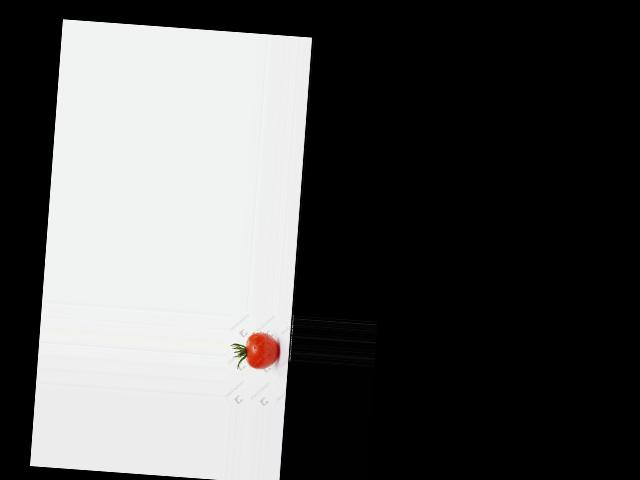tomato: (245, 332, 280, 371)
